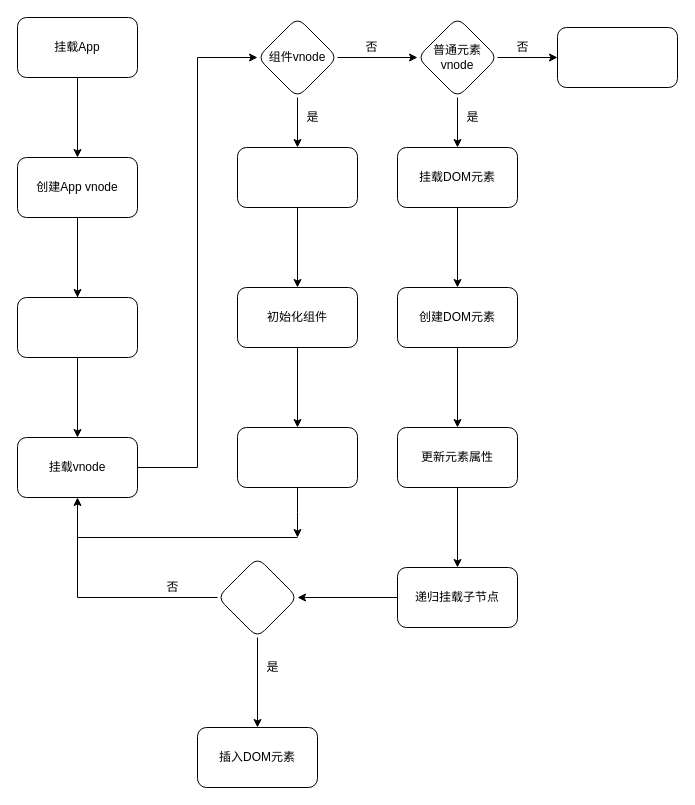
Image size: 695x805. Some labels were removed from this diagram. The shapes that lost their labels are listed below. From the top down, each one's centre as x and y in pixels, then its label:
At [617,57]: "处理其他类型vnode".
At [297,177]: "挂载组件".
At [77,327]: "渲染App vnode".
At [297,457]: "渲染组件子树vnode".
At [257,597]: "递归完成".
